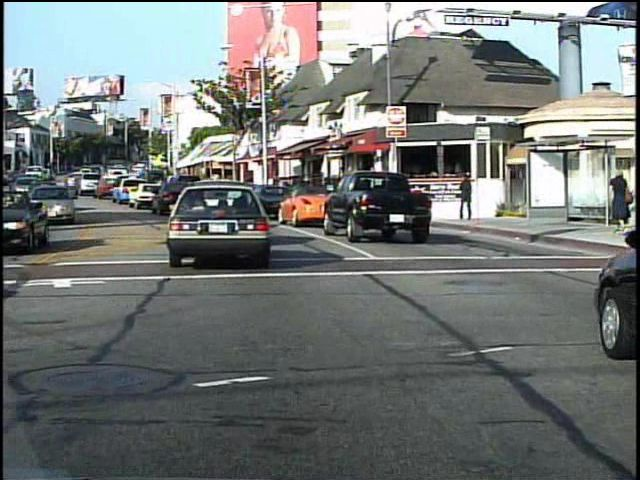person: (600, 165, 629, 238), (454, 177, 472, 229)
